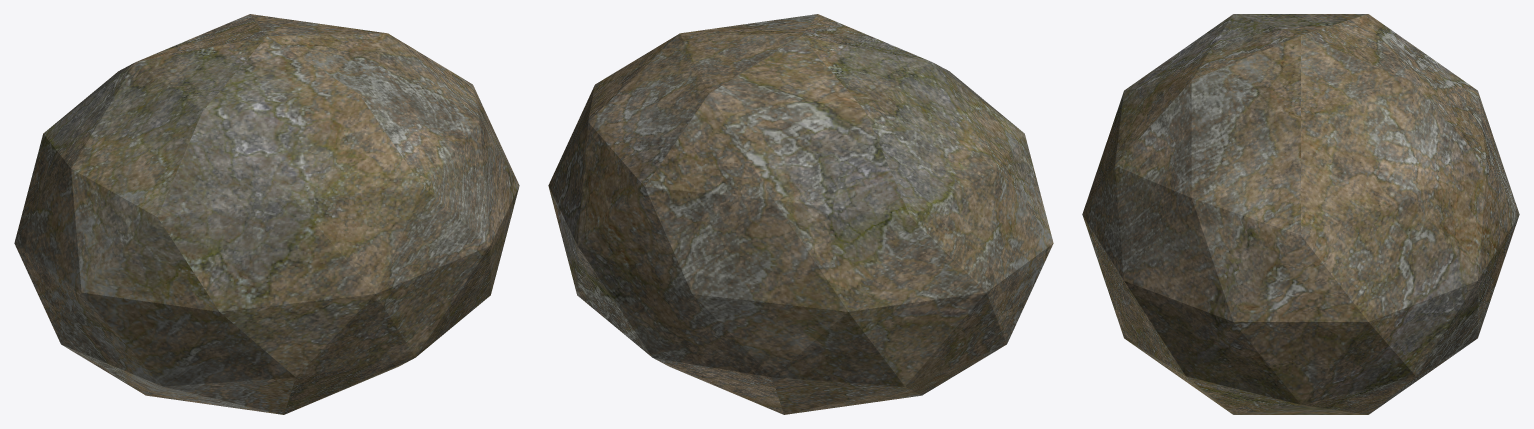
File: rock8.obj
The picture shows the model from 3 angles, left to right: view 1: azimuth 30°, elevation 25°; view 2: azimuth 150°, elevation 25°; view 3: azimuth 270°, elevation 25°; orthographic projection.
Parts seen in each view (by area): view 1: ICO球.003; view 2: ICO球.003; view 3: ICO球.003.
Part boxes in pixels (left/top/right/bottom): ICO球.003: left=14, top=14, right=519, bottom=414; ICO球.003: left=548, top=14, right=1053, bottom=414; ICO球.003: left=1082, top=14, right=1519, bottom=414.
Size of the model in its own units: 19.19 by 14.92 by 16.5.
